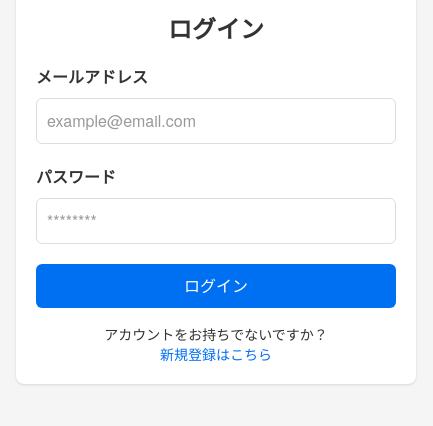
Test: ログイン画面 › login が返した項目ごとのエラーを該当の入力欄に表示する
Clear the field labelled "メールアドレス": (216, 121) left=36, top=98, right=396, bottom=144
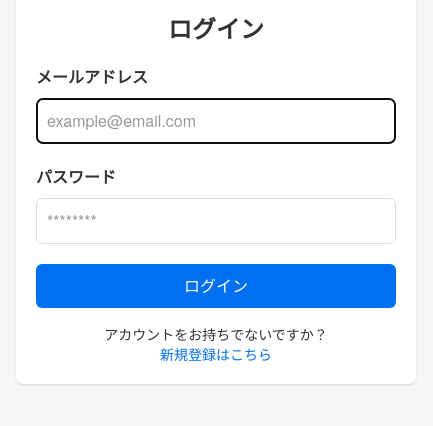
Clear the password field labelled "パスワード": (216, 221) left=36, top=198, right=396, bottom=244
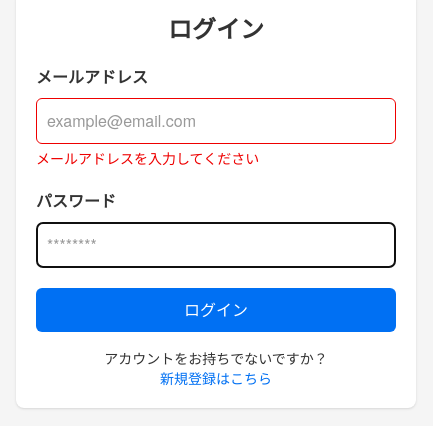
In the field labelled "メールアドレス": (216, 121) left=36, top=98, right=396, bottom=144, type "taro@example.com"
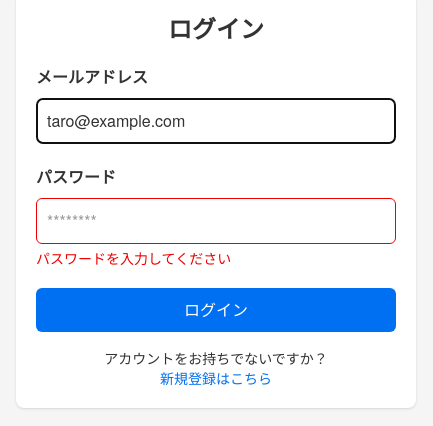
In the password field labelled "パスワード": (216, 221) left=36, top=198, right=396, bottom=244, type "password123"
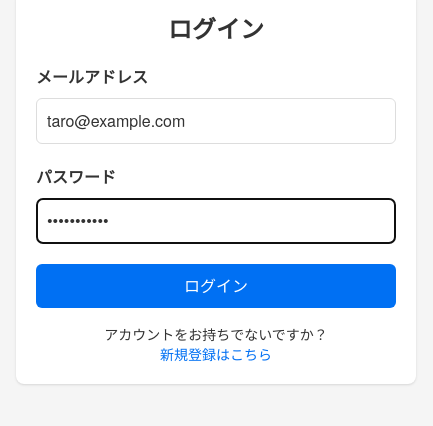
Click the button "ログイン": click(216, 286) left=36, top=264, right=396, bottom=308
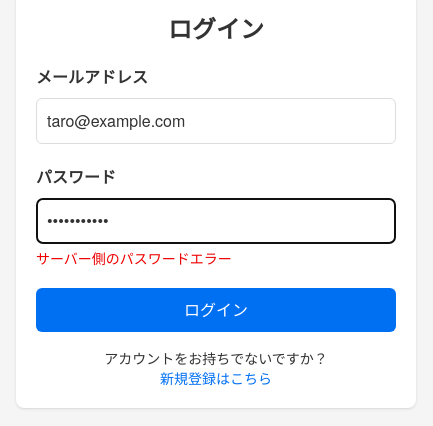
Expected: the text "サーバー側のパスワードエラー" is shown, left=36, top=248, right=232, bottom=268
